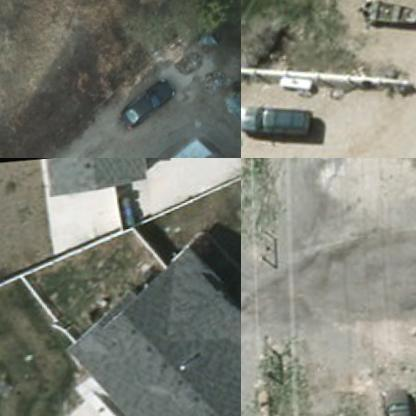boat: (360, 0, 415, 34)
car: (241, 99, 318, 146), (125, 82, 184, 130), (384, 389, 415, 415)
